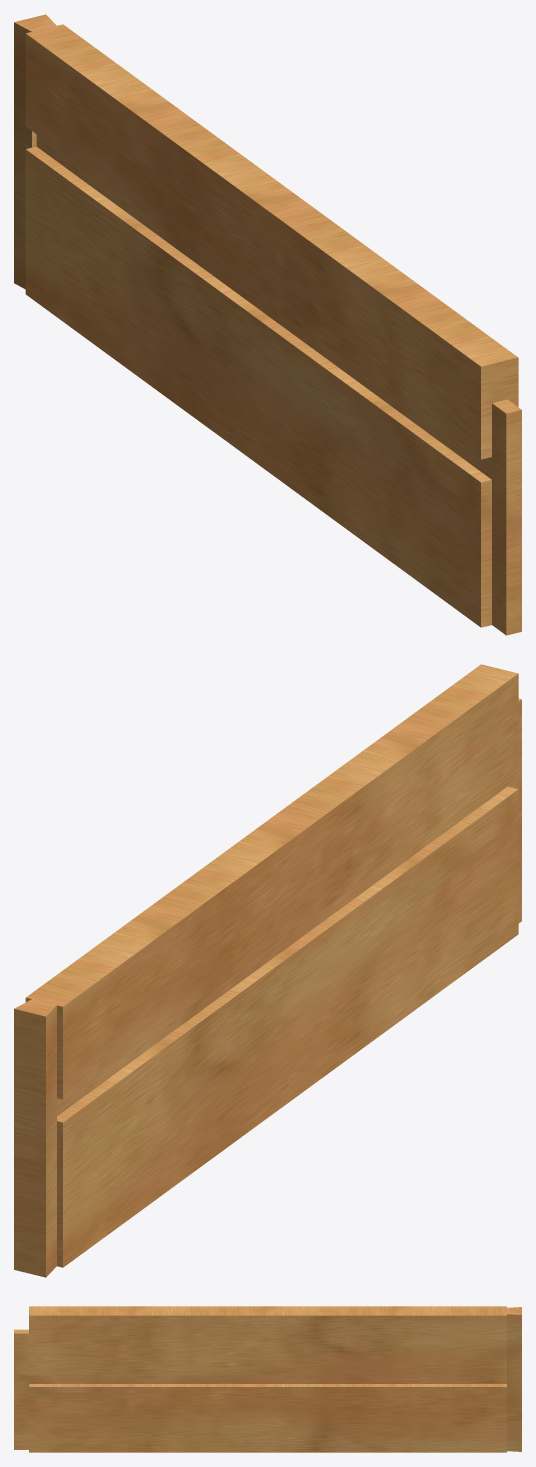
Rendered from original-35.obj.
The picture shows the model from 3 angles, top to bottom: view 1: azimuth 30°, elevation 25°; view 2: azimuth 150°, elevation 25°; view 3: azimuth 270°, elevation 25°; orthographic projection. The views are drawn at different scales.
Parts seen in each view (by area): view 1: Divider1/Divider/mesh80/mesh80-geometry#mesh80-geometry; view 2: Divider1/Divider/mesh80/mesh80-geometry#mesh80-geometry; view 3: Divider1/Divider/mesh80/mesh80-geometry#mesh80-geometry.
Part boxes in pixels (box(x1,y1,x2,y2)): Divider1/Divider/mesh80/mesh80-geometry#mesh80-geometry: box(14, 14, 521, 635); Divider1/Divider/mesh80/mesh80-geometry#mesh80-geometry: box(14, 664, 521, 1277); Divider1/Divider/mesh80/mesh80-geometry#mesh80-geometry: box(14, 1306, 521, 1452).
Bounding box in the file's own units: 0.0222 × 0.1482 × 0.4983.
